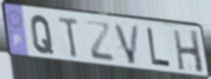H: (171, 28, 206, 76)
L: (146, 26, 173, 70)
Q: (29, 14, 55, 56)
T: (57, 15, 81, 60)
V: (112, 22, 142, 67)
Z: (84, 19, 116, 64)
